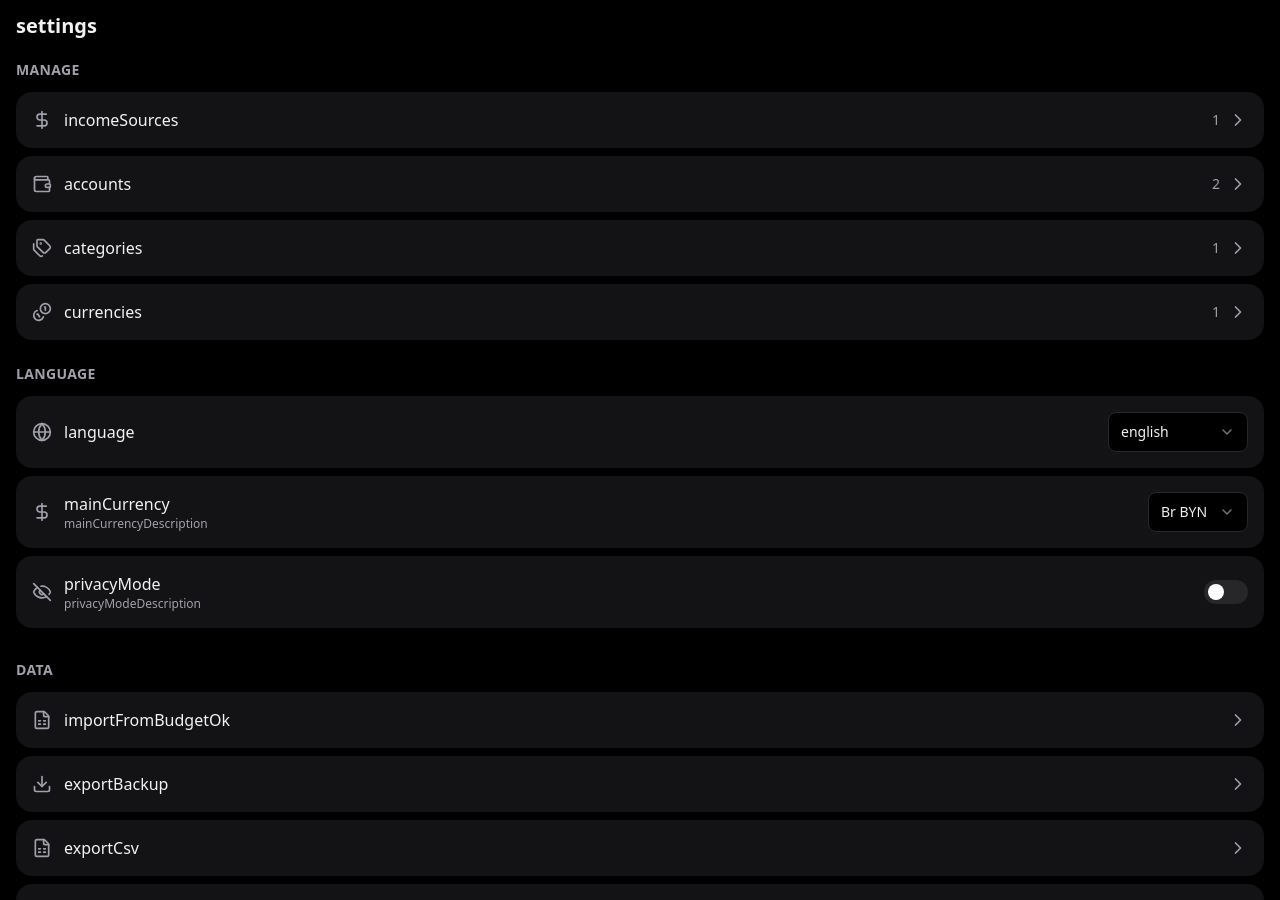
Test: SettingsPage management sections › persists a new order after drag and drop
The image size is (1280, 900).
Click the text "accounts": (98, 184) [64,172,131,196]
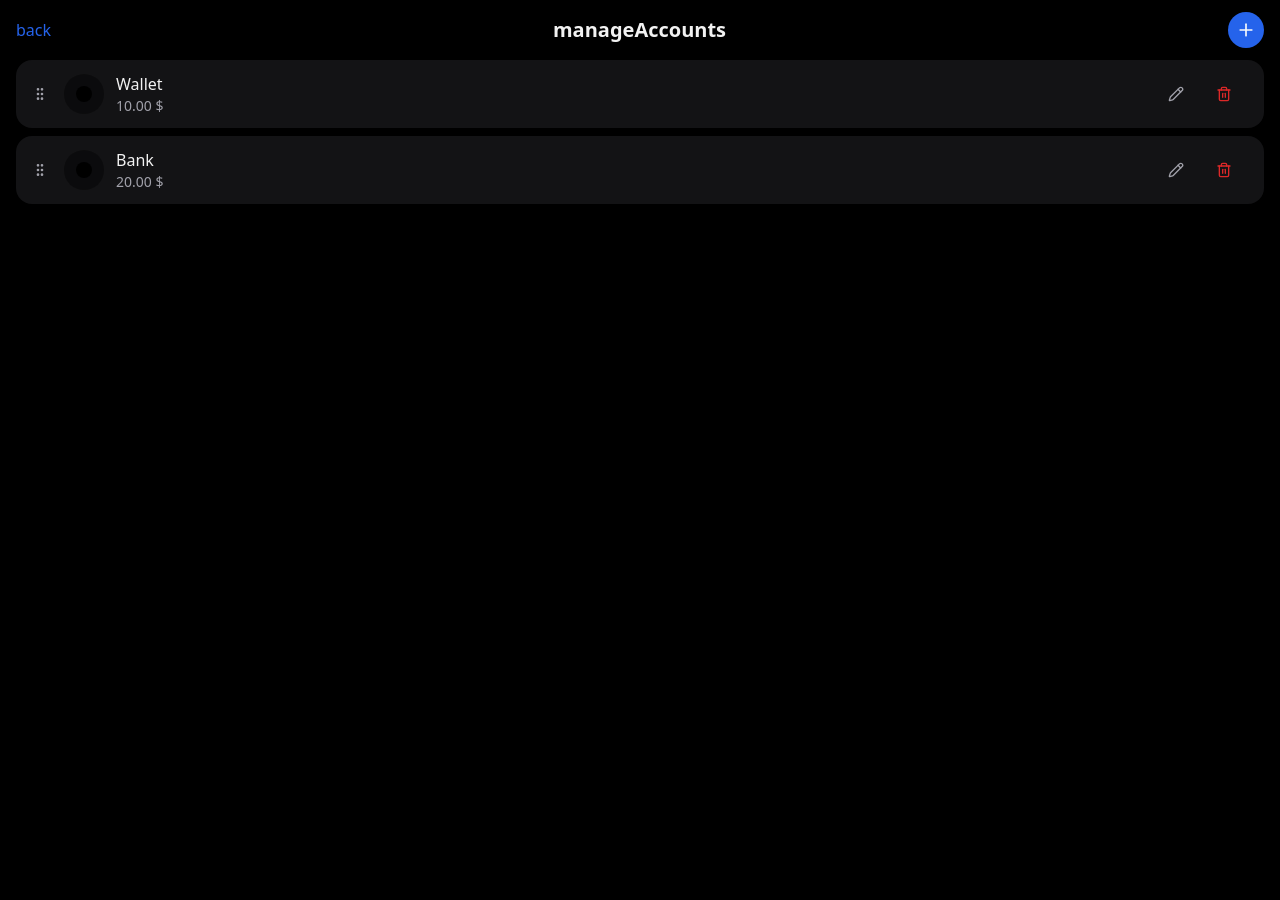
Expected: the number of buttons named "Drag to reorder" is 2, [28,82,52,106]; [28,158,52,182]
